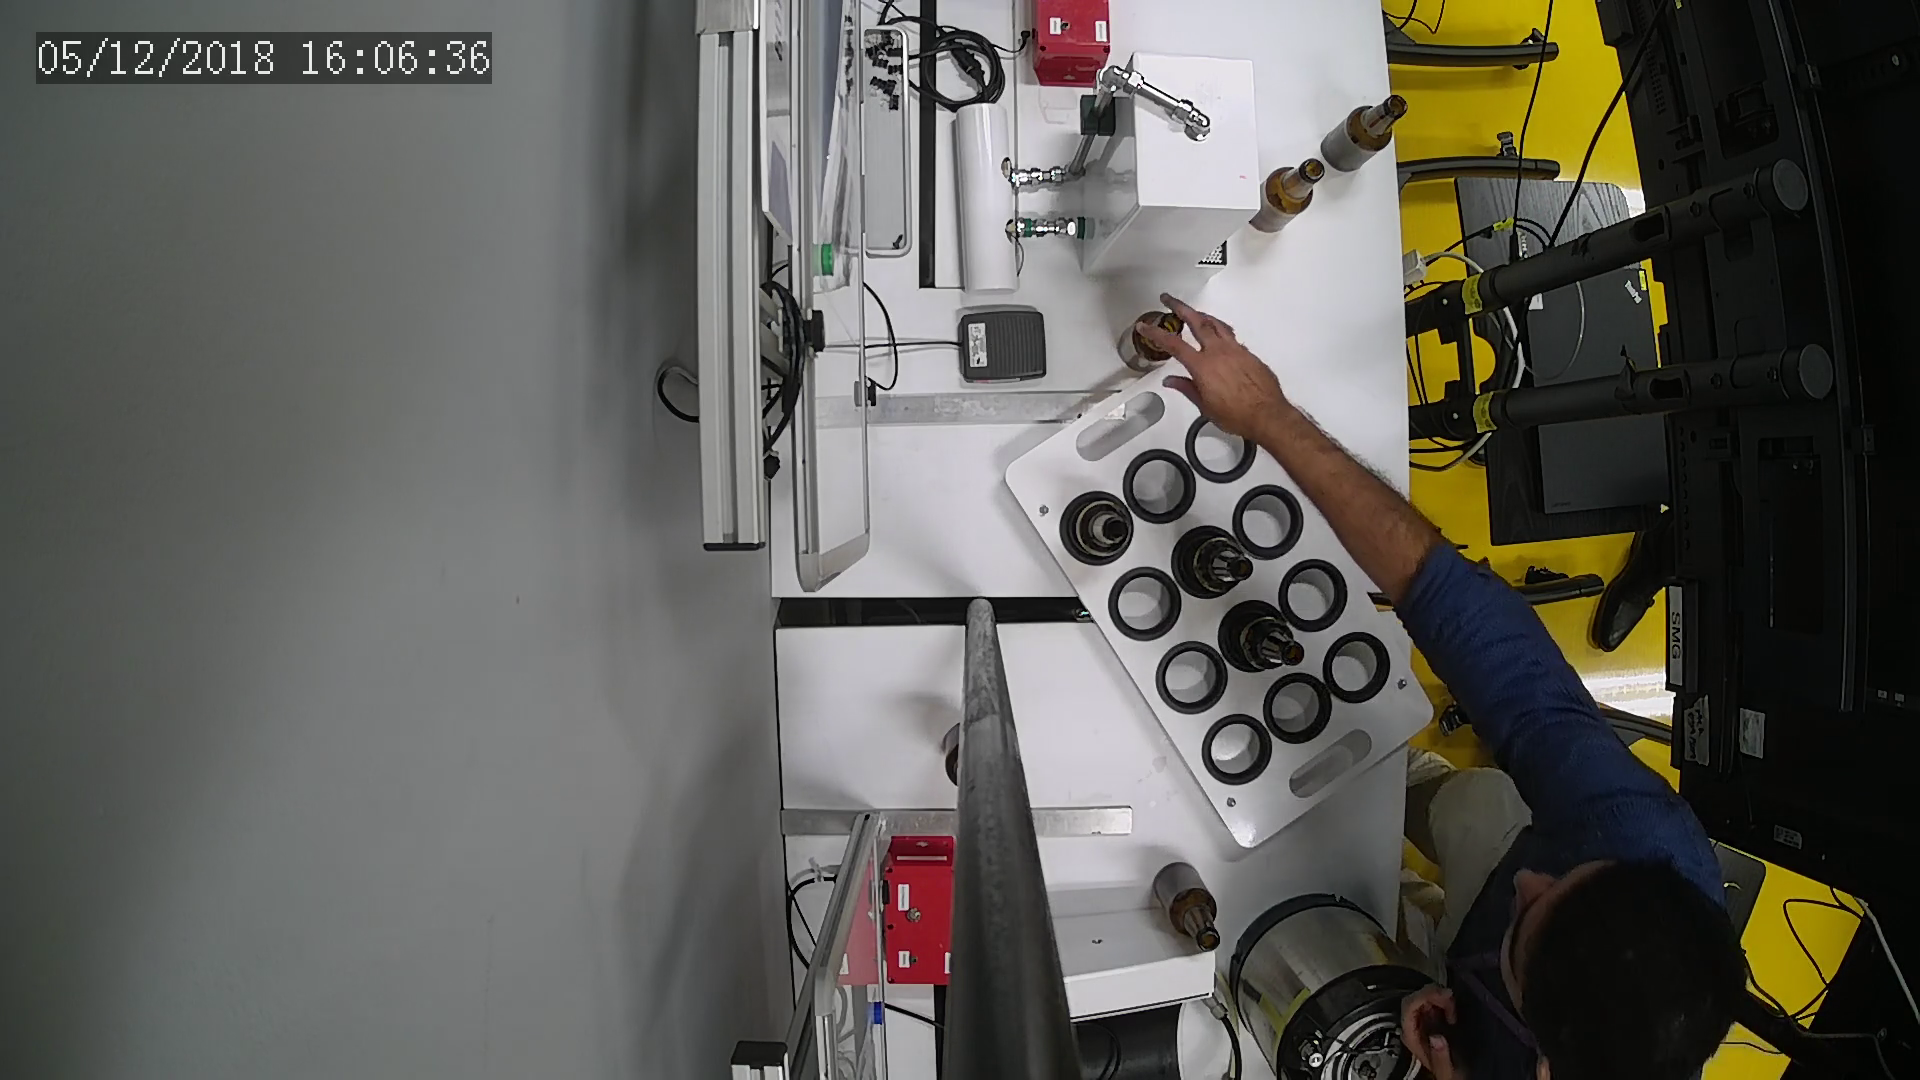filled_bottle: (1224, 597, 1304, 676), (1179, 530, 1261, 599), (1064, 493, 1133, 564)
trolley: (1001, 345, 1433, 851)
unfilled_bottle: (1323, 88, 1406, 171), (1153, 858, 1222, 949), (1247, 157, 1320, 233), (1116, 309, 1182, 376)
